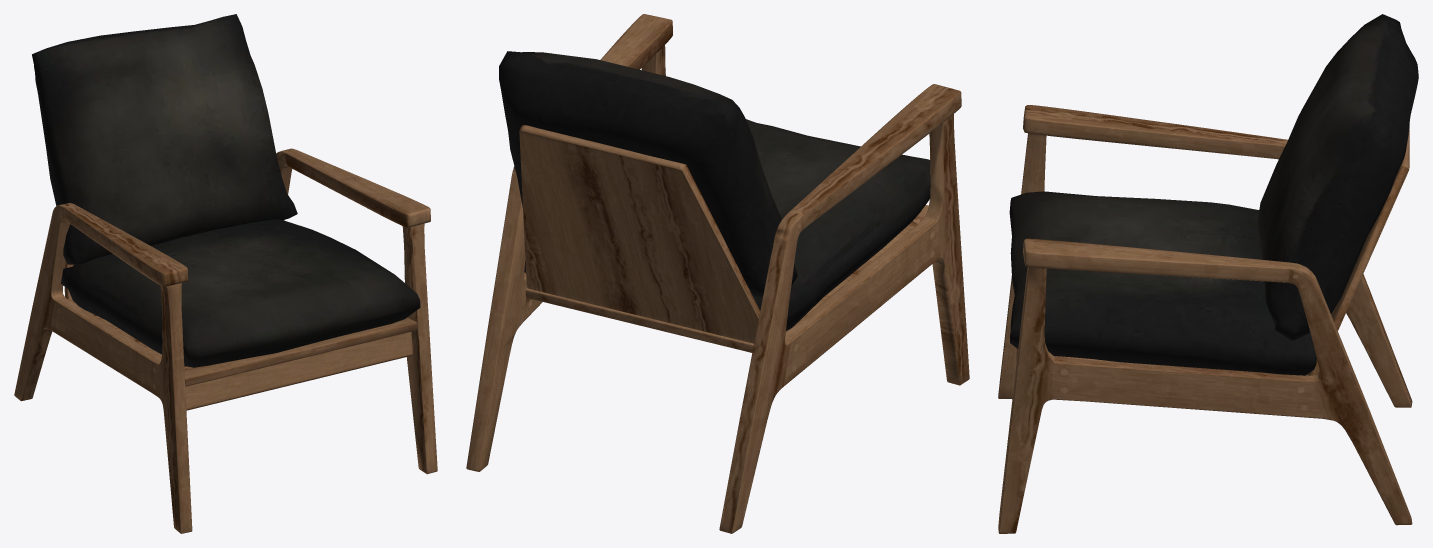
The model's file is prop-armchair-9d1ebf04.glb.
3 views of the same model, side by side, from view 1: azimuth 30°, elevation 25°; view 2: azimuth 150°, elevation 25°; view 3: azimuth 270°, elevation 25° (orthographic). The views are drawn at different scales.
Parts seen in each view (by area): view 1: modern_arm_chair_01; view 2: modern_arm_chair_01; view 3: modern_arm_chair_01.
Boxes of the visible parts, x1,y1,x2,y2 form: modern_arm_chair_01: (14,14,437,533); modern_arm_chair_01: (466,14,969,533); modern_arm_chair_01: (998,14,1418,533).
Size of the model in its own units: 0.8203 by 1.02 by 0.9866.
2 materials, 2 textured.
